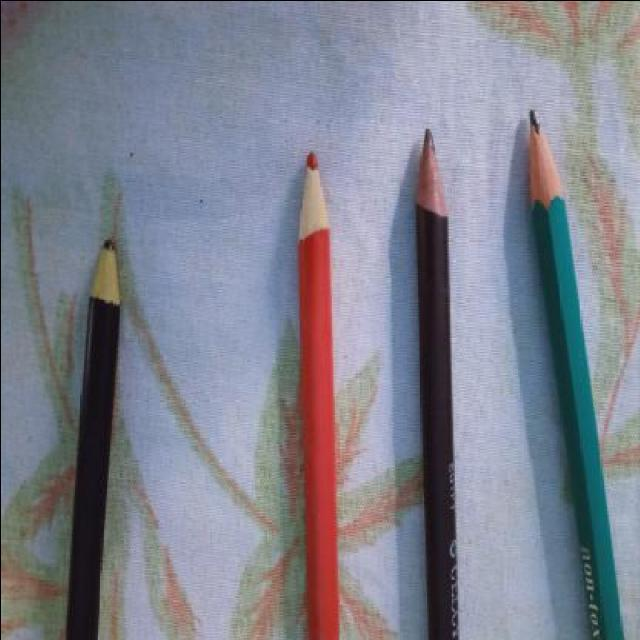Pencil: (513, 100, 576, 220), (408, 119, 452, 230), (290, 143, 334, 251), (83, 227, 128, 330)
